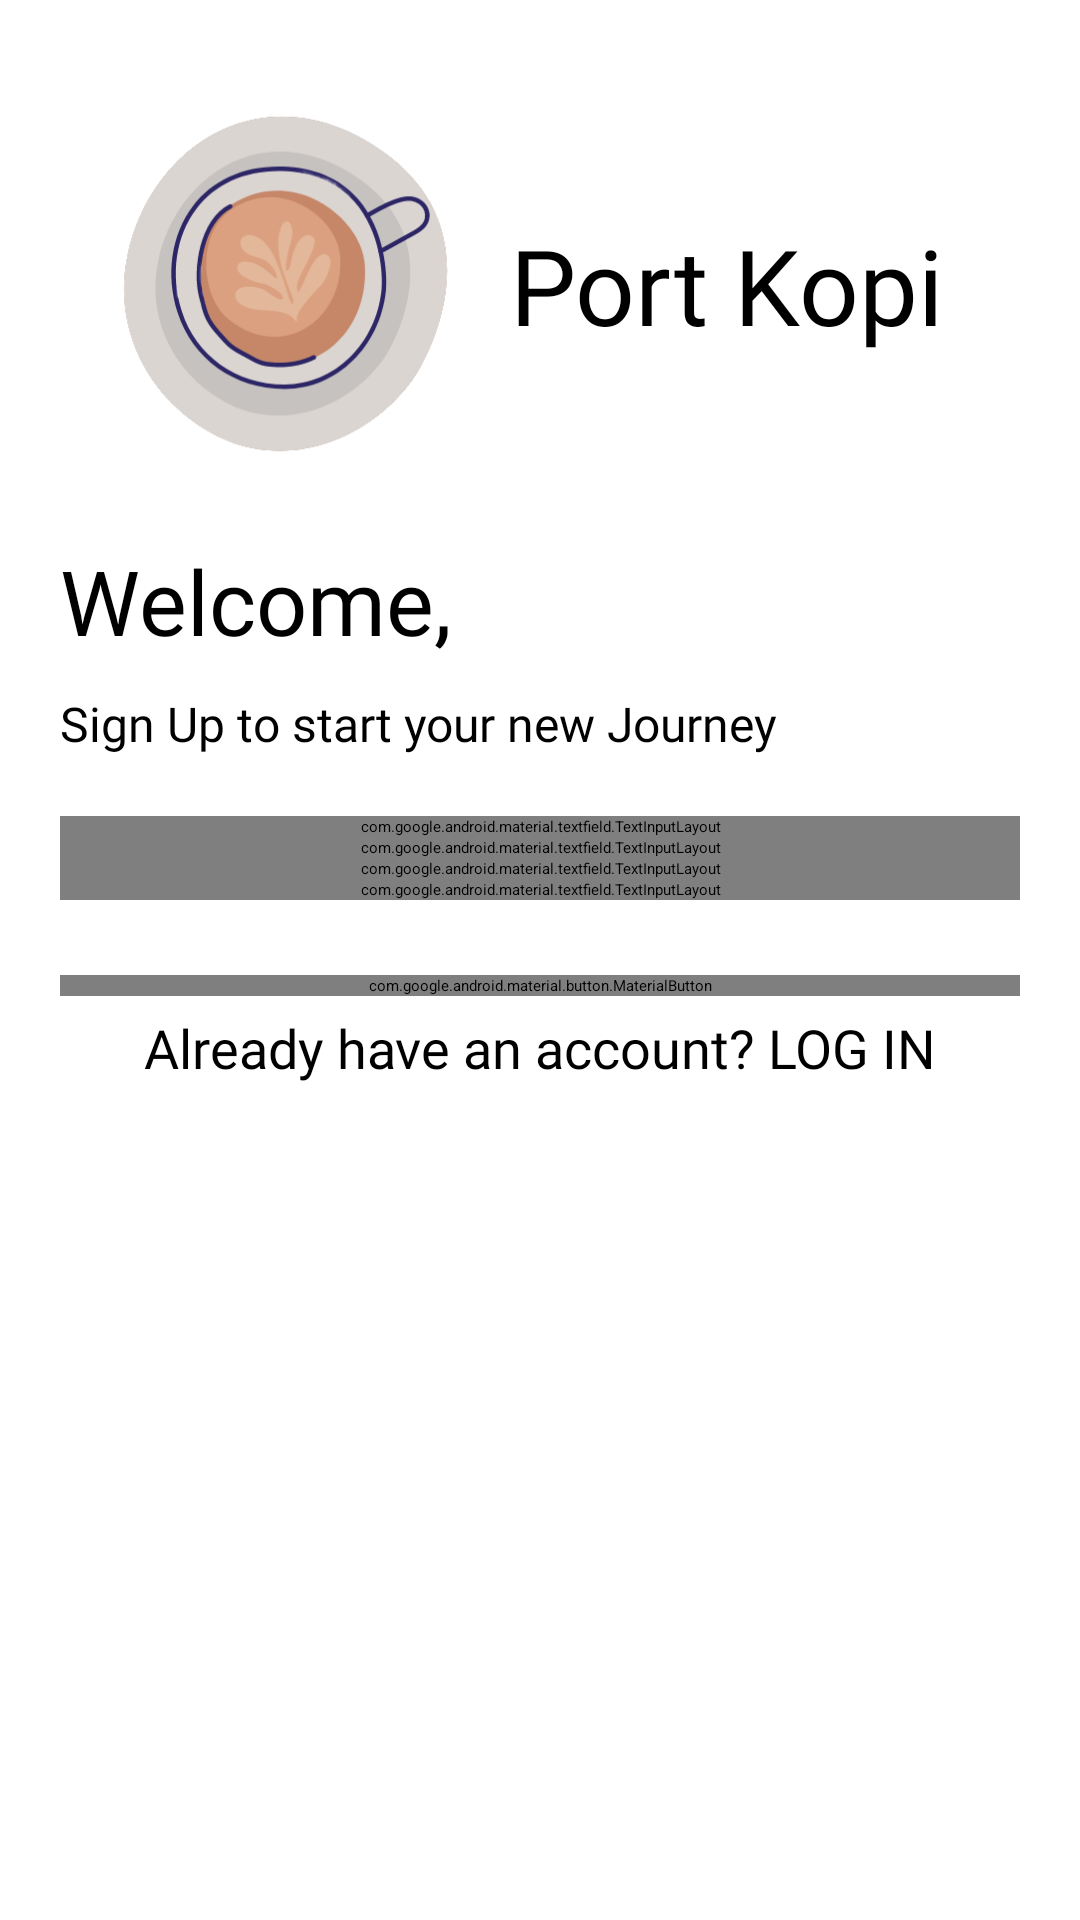

Locate icon controls on the screen. Image size 1080px x 1920px, boxes as BBox(x1, y1, x2, y2).
coffee cup: BBox(124, 117, 447, 451)
